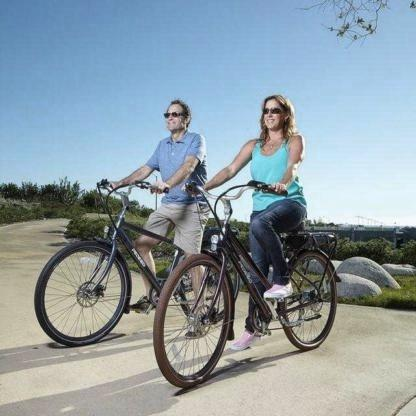Bicycle: (145, 163, 361, 391), (24, 166, 252, 346)
